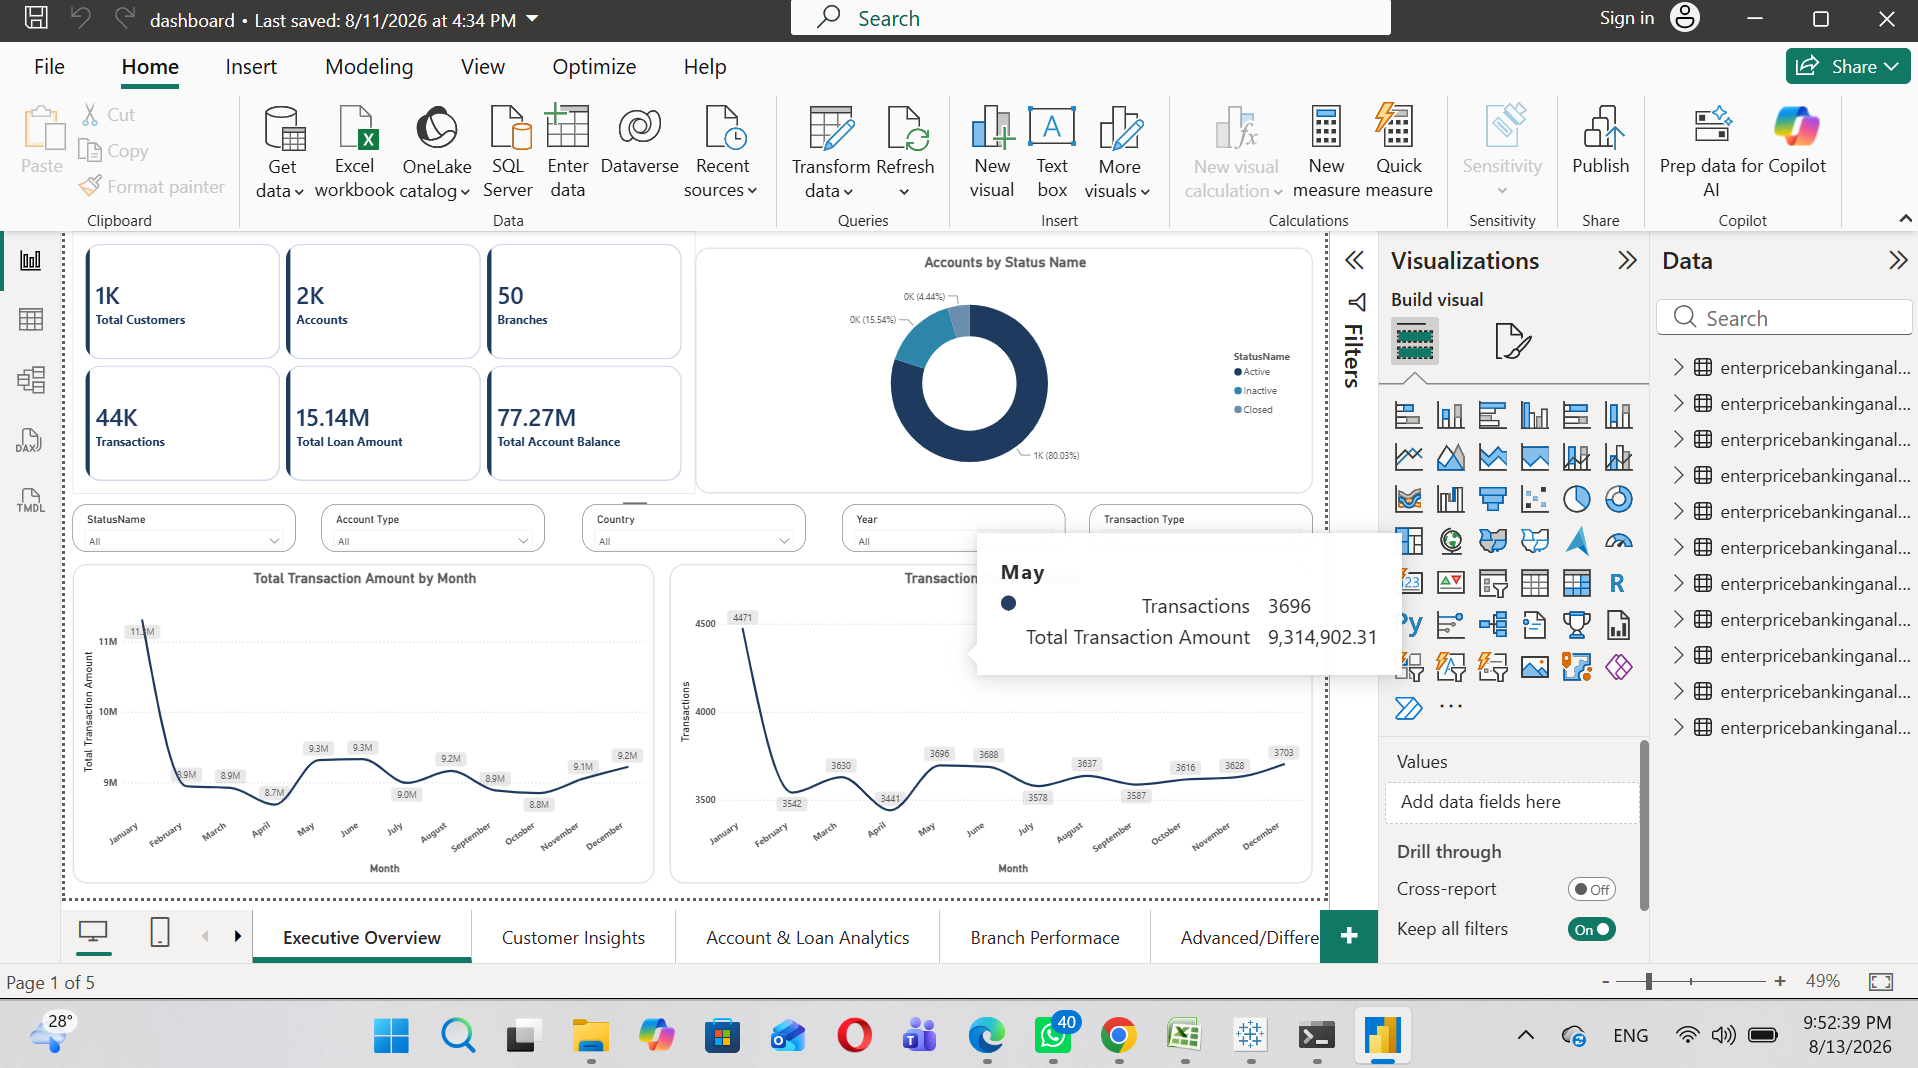

The dashboard page shown, as its layout file describes it:
{"tool":"powerbi","page":{"name":"Executive Overview","canvas":[1700,900],"ordinal":0},"visuals":[{"type":"cardVisual","fields":{"Data":["enterpricebankinganalyticsdb customers.Total Customers","enterpricebankinganalyticsdb accounts.Accounts","enterpricebankinganalyticsdb branches.Branches","enterpricebankinganalyticsdb transactions.Transactions","enterpricebankinganalyticsdb loans.Total Loan Amount","enterpricebankinganalyticsdb accounts.Total Account Balance"]},"box":[10.1,0,840,354.2],"z":0},{"type":"lineChart","title":"Total Transaction Amount by Month","fields":{"Y":["enterpricebankinganalyticsdb transactions.Total Transaction Amount"],"Category":["enterpricebankinganalyticsdb transactions.TransactionDate.Variation.Date Hierarchy.Month"]},"box":[10.1,449.3,785.3,431.1],"z":1000},{"type":"lineChart","title":"Transaction Count by Month","fields":{"Category":["enterpricebankinganalyticsdb transactions.TransactionDate.Variation.Date Hierarchy.Month"],"Y":["enterpricebankinganalyticsdb transactions.Transactions"]},"box":[815.7,449.3,868.3,431.1],"z":2000},{"type":"donutChart","title":"Accounts by Status Name","fields":{"Category":["enterpricebankinganalyticsdb account_statuses.StatusName"],"Y":["enterpricebankinganalyticsdb accounts.Accounts"]},"box":[850.1,22.3,833.9,331.9],"z":3000},{"type":"slicer","fields":{"Values":["enterpricebankinganalyticsdb account_statuses.StatusName"]},"box":[10.1,368.4,301.6,64.8],"z":4000},{"type":"slicer","fields":{"Values":["enterpricebankinganalyticsdb account_types.TypeName"]},"box":[346.1,368.4,301.6,64.8],"z":5000},{"type":"slicer","fields":{"Values":["enterpricebankinganalyticsdb addresses.Country"]},"box":[698.3,368.4,301.6,64.8],"z":6000},{"type":"slicer","fields":{"Values":["enterpricebankinganalyticsdb transactions.TransactionDate.Variation.Date Hierarchy.Year"]},"box":[1048.5,368.4,301.6,64.8],"z":7000},{"type":"slicer","fields":{"Values":["enterpricebankinganalyticsdb transaction_types.TypeName"]},"box":[1382.4,368.4,301.6,64.8],"z":8000}]}

Visuals, with their boxes on the page's 1700x900 design canvas (x1, y1, x2, y2). These are canvas units, not pixel positions in the 1918x1068 screenshot, which may show the page scaled, cropped or inside an application window:
cardVisual - enterpricebankinganalyticsdb customers.Total Customers x enterpricebankinganalyticsdb accounts.Accounts: <region>10, 0, 850, 354</region>
"Total Transaction Amount by Month" lineChart: <region>10, 449, 795, 880</region>
"Transaction Count by Month" lineChart: <region>816, 449, 1684, 880</region>
"Accounts by Status Name" donutChart: <region>850, 22, 1684, 354</region>
slicer - enterpricebankinganalyticsdb account_statuses.StatusName: <region>10, 368, 312, 433</region>
slicer - enterpricebankinganalyticsdb account_types.TypeName: <region>346, 368, 648, 433</region>
slicer - enterpricebankinganalyticsdb addresses.Country: <region>698, 368, 1000, 433</region>
slicer - enterpricebankinganalyticsdb transactions.TransactionDate.Variation.Date Hierarchy.Year: <region>1048, 368, 1350, 433</region>
slicer - enterpricebankinganalyticsdb transaction_types.TypeName: <region>1382, 368, 1684, 433</region>
